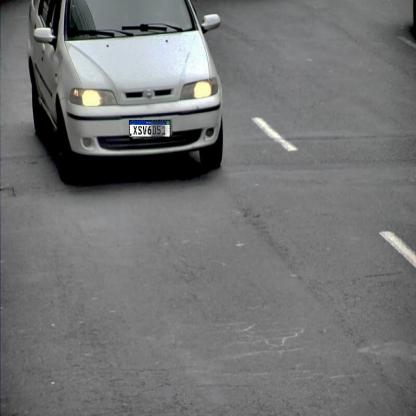PlacaM: (129, 120, 171, 137)
